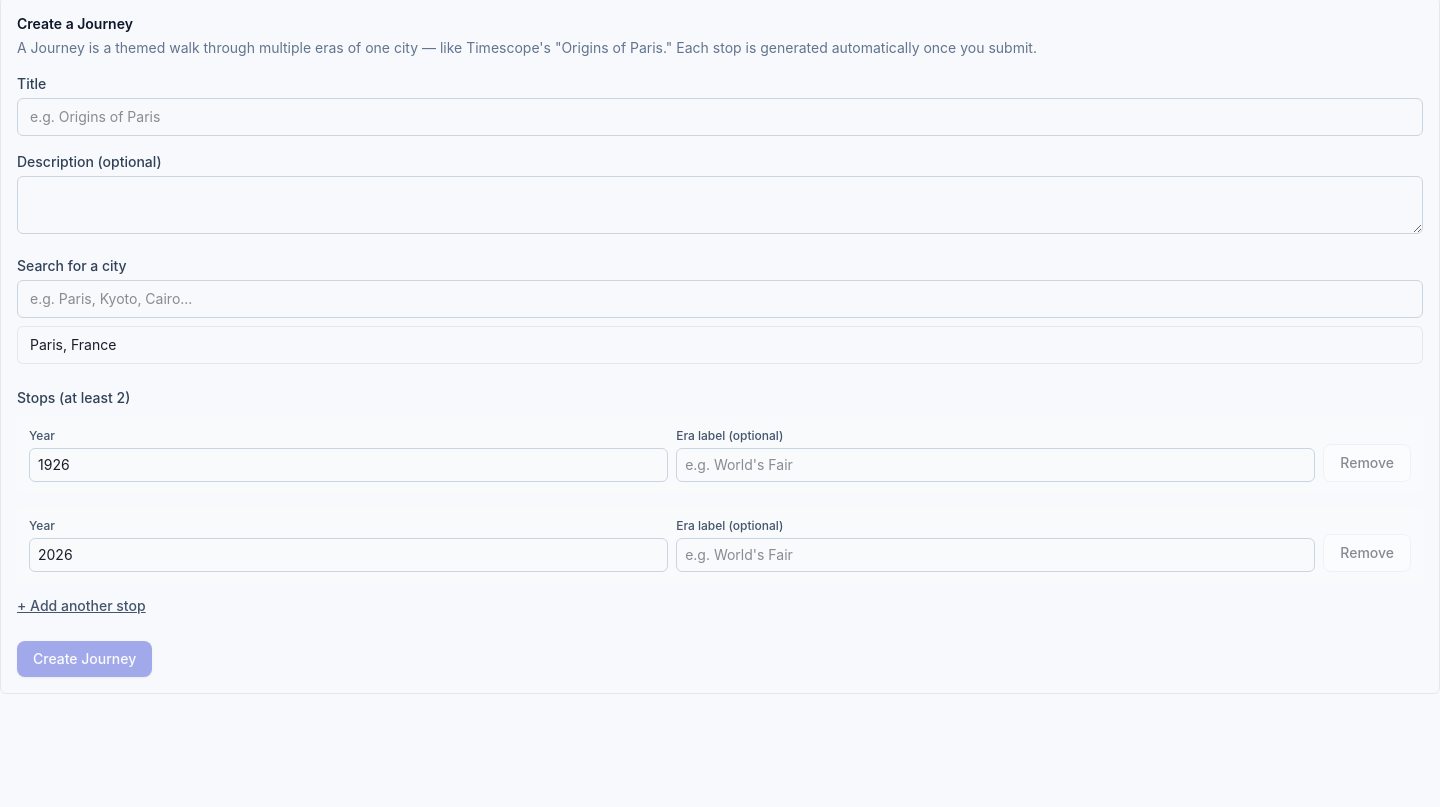
Scenario: CreateJourneyForm › disables submit until a title and city are set
The image size is (1440, 807).
Expected: the button "Create Journey" is disabled, top-left (17, 641), bottom-right (152, 677)
Type "Origins of Paris" into the field labelled "Title" at (720,117), box top-left (17, 98), bottom-right (1423, 136)
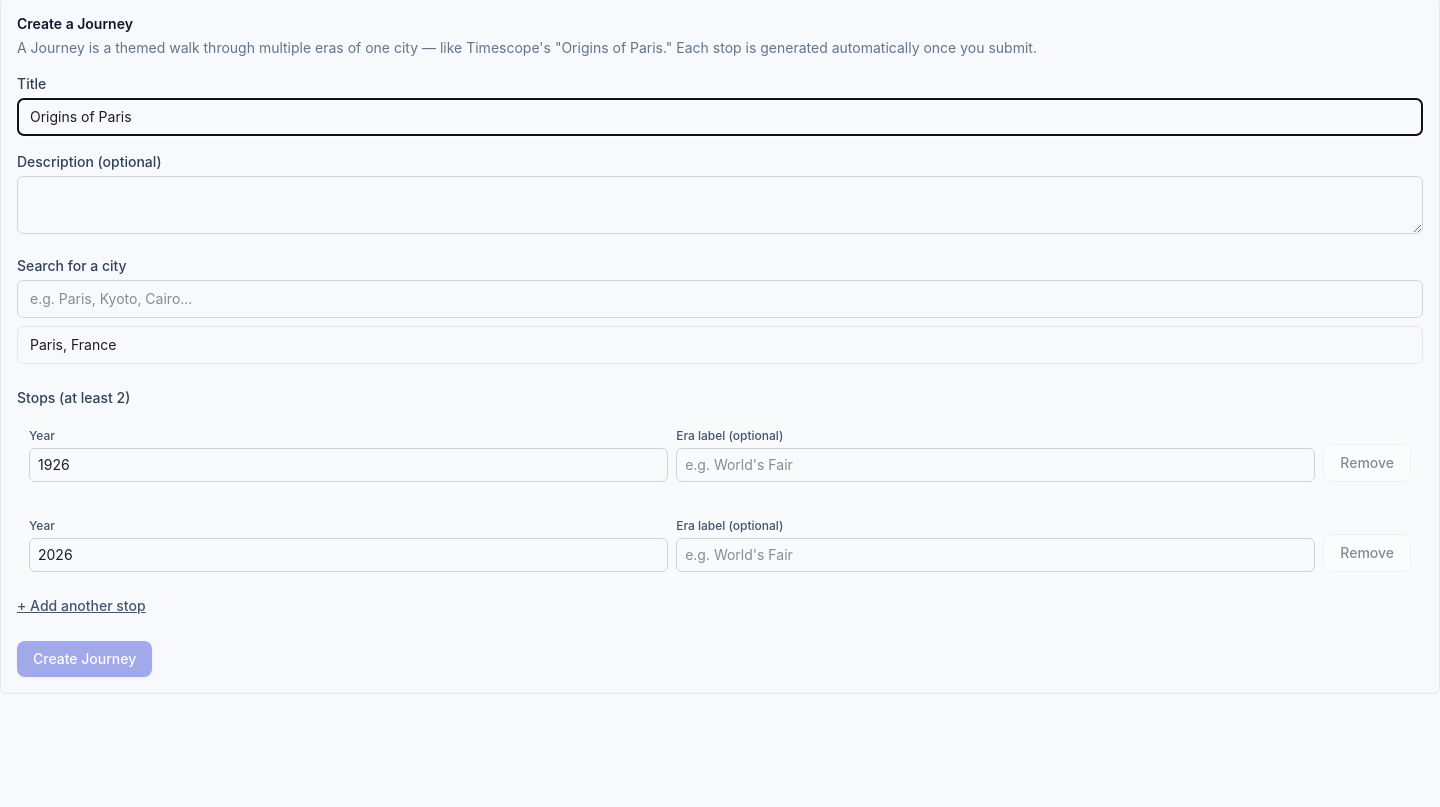
Type "Par" into the field labelled "Search for a city" at (720,299), box top-left (17, 280), bottom-right (1423, 318)
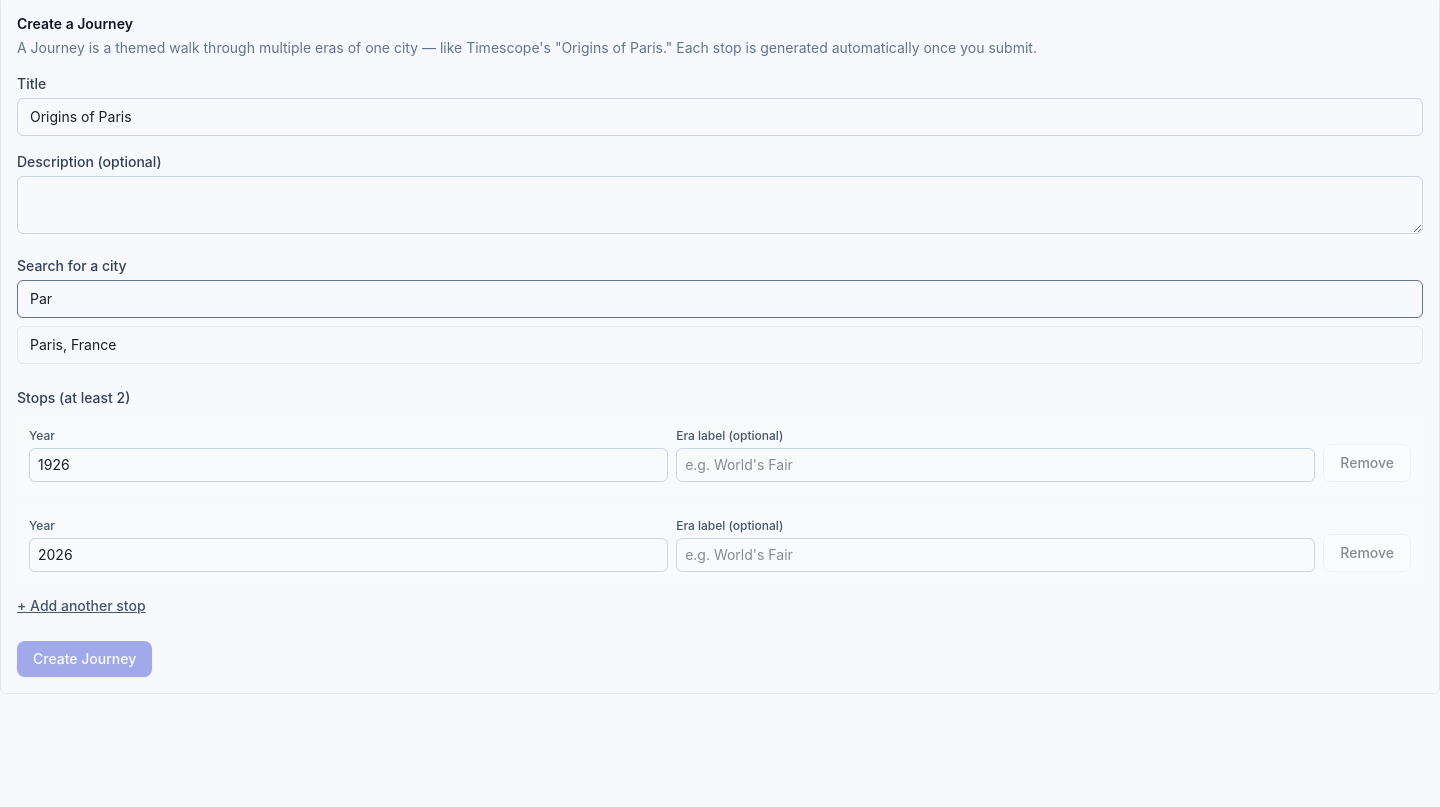
Click the button "Paris, France" at (46,344), box top-left (18, 327), bottom-right (1422, 363)
(page scrolled)
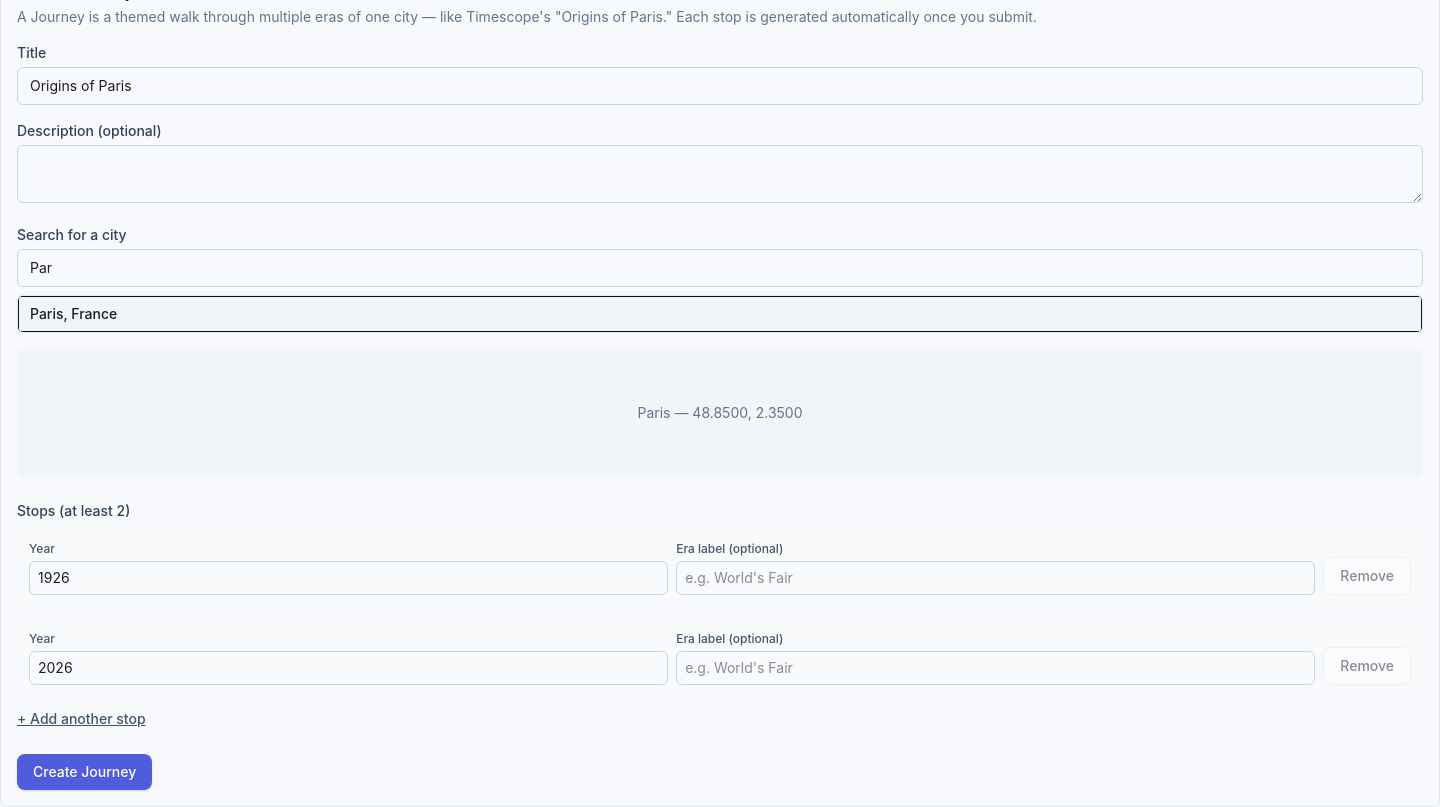
Expected: the button "Create Journey" is enabled, top-left (17, 754), bottom-right (152, 790)
